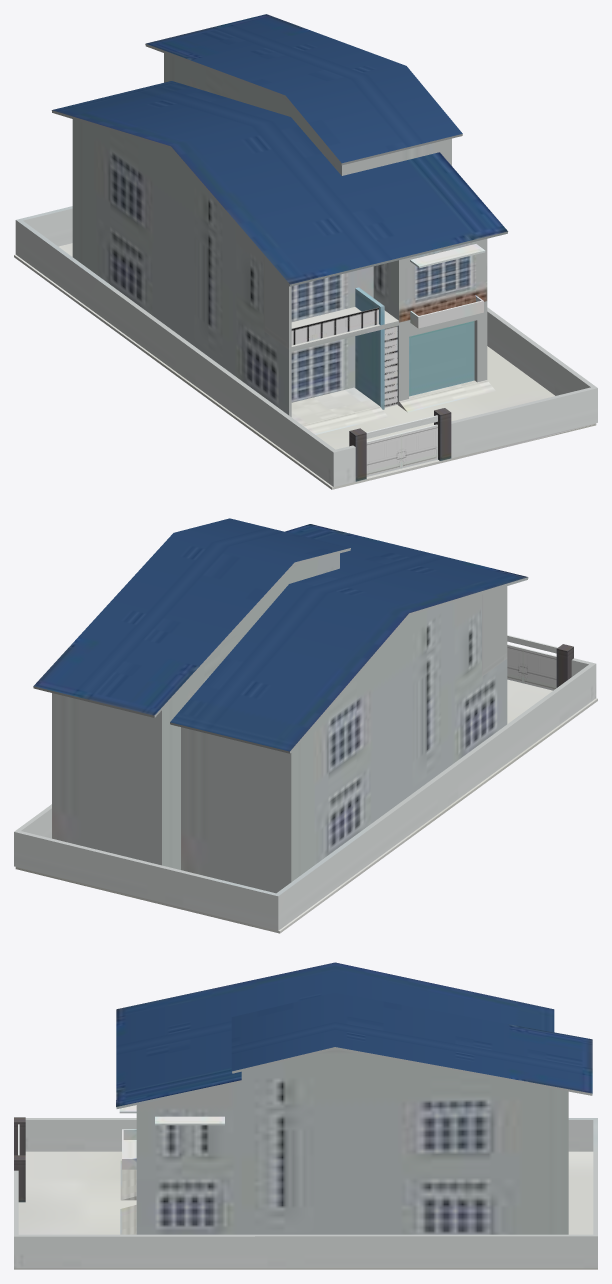
The picture shows the model from 3 angles, top to bottom: view 1: azimuth 30°, elevation 25°; view 2: azimuth 150°, elevation 25°; view 3: azimuth 270°, elevation 25°; orthographic projection. The views are drawn at different scales.
Parts seen in each view (by area): view 1: 594c75bfcbc4876d74b5d1a6.001; view 2: 594c75bfcbc4876d74b5d1a6.001; view 3: 594c75bfcbc4876d74b5d1a6.001.
Part boxes in pixels (x1,y1,x2,y2): 594c75bfcbc4876d74b5d1a6.001: (14,14,597,489); 594c75bfcbc4876d74b5d1a6.001: (14,518,597,933); 594c75bfcbc4876d74b5d1a6.001: (14,962,597,1269).
Size of the model in its own units: 12.08 by 10.56 by 25.
Materials: 1 (1 with a texture image).
